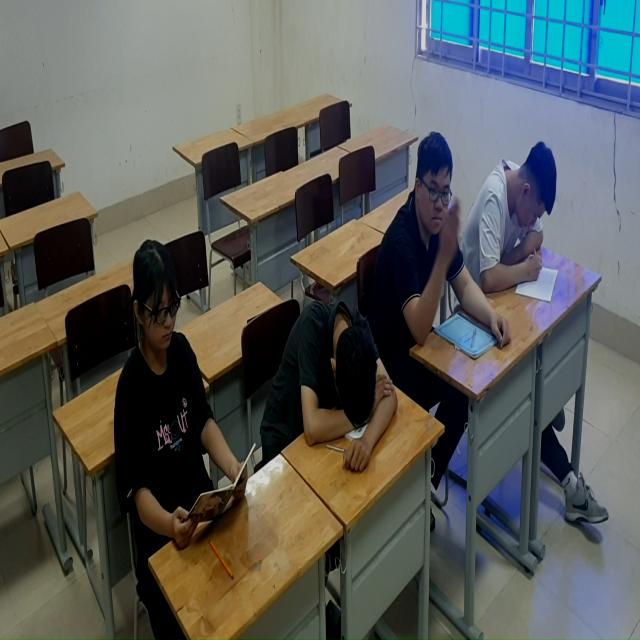raise_hand: (386, 125, 467, 355)
read: (107, 232, 237, 569), (469, 130, 567, 326)
sleep: (260, 295, 398, 480)
